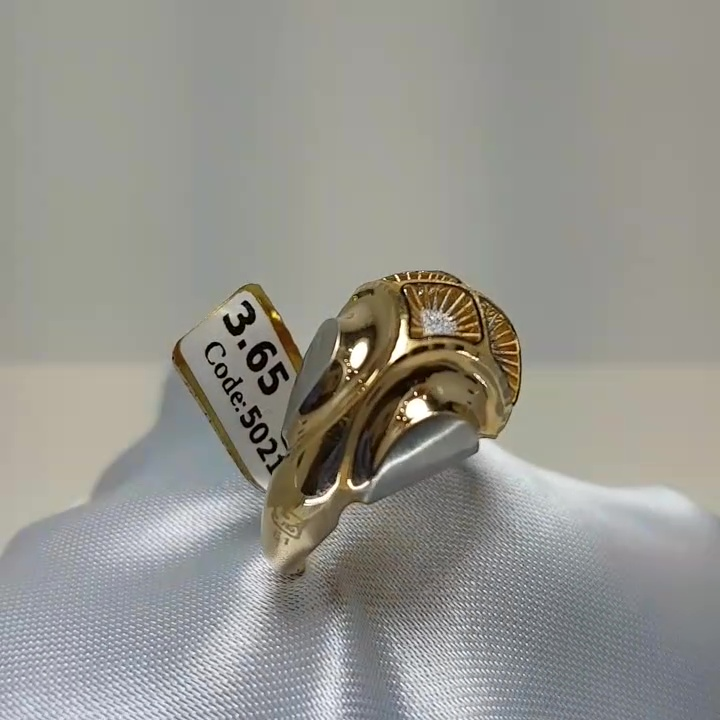Ring 2: (207, 260, 534, 584)
